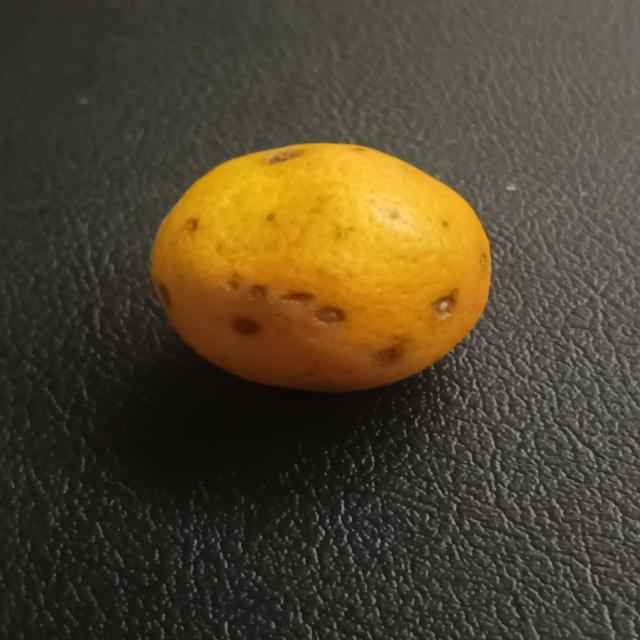black spot: (142, 146, 499, 395)
